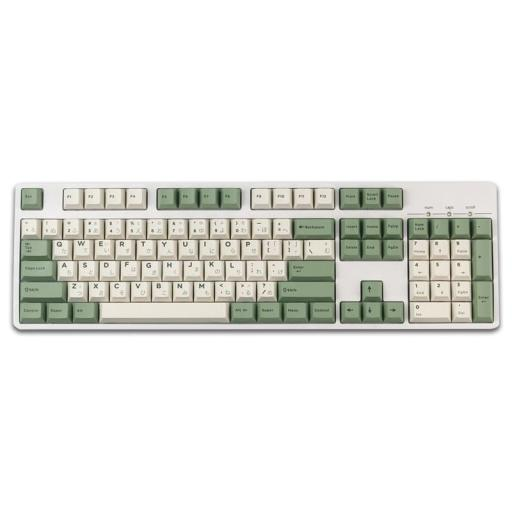keyboard: (12, 177, 499, 330)
